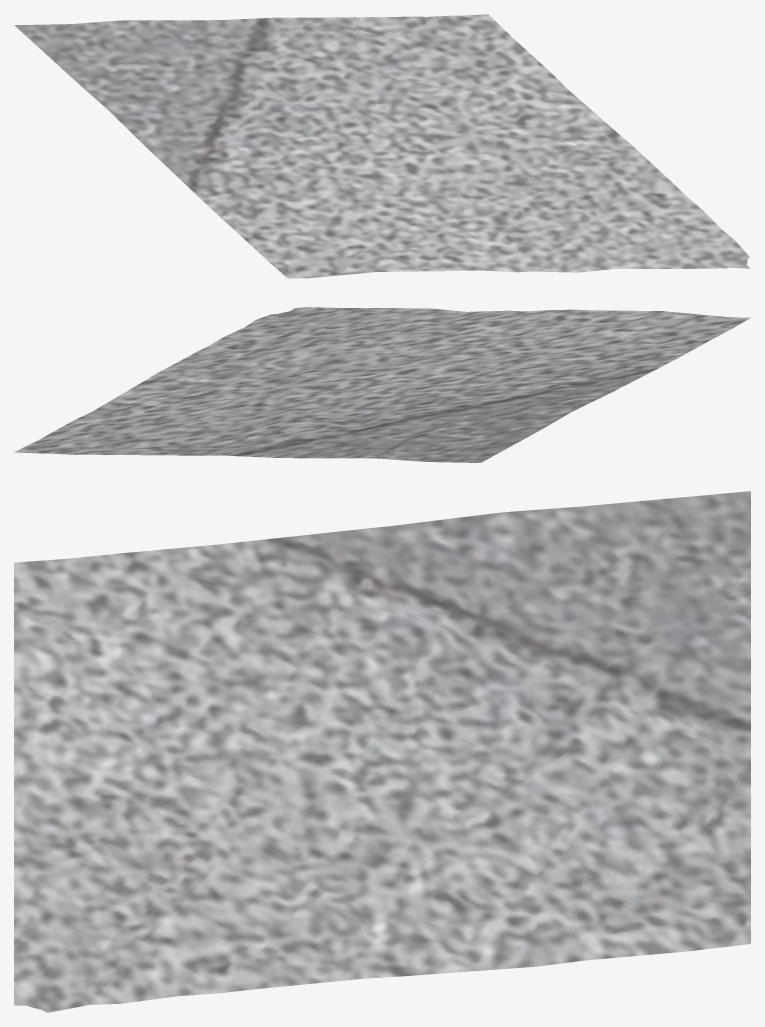
The picture shows the model from 3 angles, top to bottom: view 1: azimuth 30°, elevation 25°; view 2: azimuth 150°, elevation 25°; view 3: azimuth 270°, elevation 25°; orthographic projection. The views are drawn at different scales.
Size of the model in its own units: 0.8374 by 0.2637 by 0.8373.
Materials: 3 (3 with a texture image).
